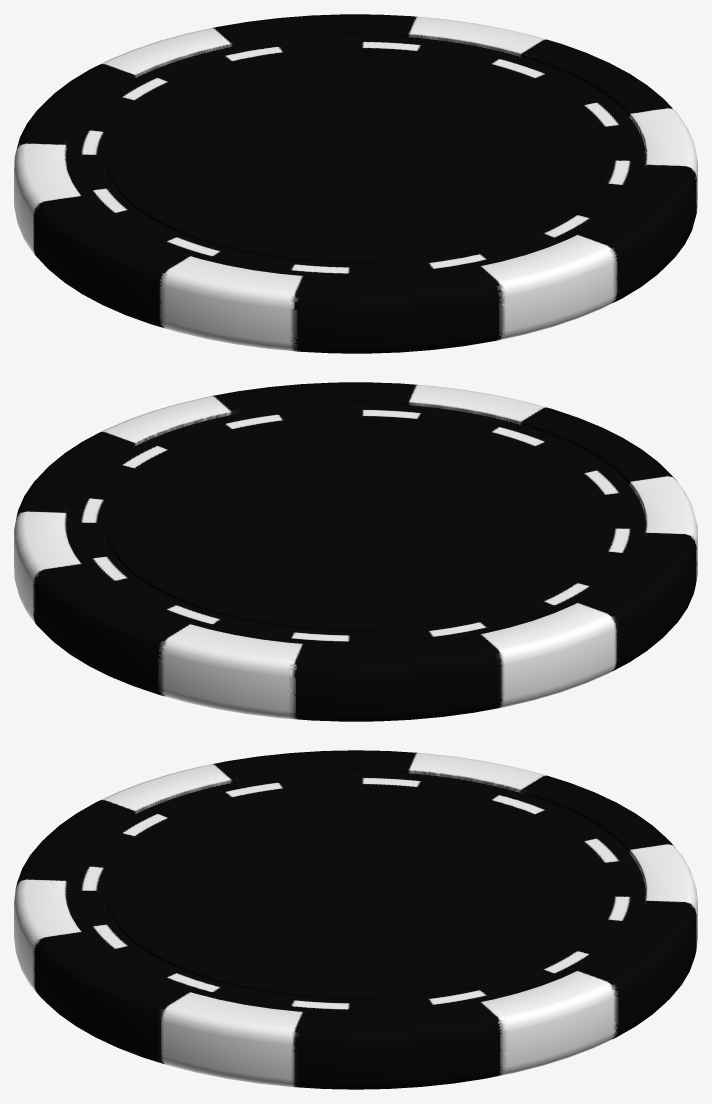
Rendered from black_white.glb.
3 views of the same model, one above another, from view 1: azimuth 30°, elevation 25°; view 2: azimuth 150°, elevation 25°; view 3: azimuth 270°, elevation 25° (orthographic).
Parts seen in each view (by area): view 1: chips.171_chips_black_bake_0; view 2: chips.171_chips_black_bake_0; view 3: chips.171_chips_black_bake_0.
Boxes of the visible parts, <box> form: chips.171_chips_black_bake_0: <box>14,14,697,353</box>; chips.171_chips_black_bake_0: <box>14,382,697,721</box>; chips.171_chips_black_bake_0: <box>14,750,697,1089</box>.
Bounding box in the file's own units: 2 × 0.1882 × 2.
1 material, 1 textured.
